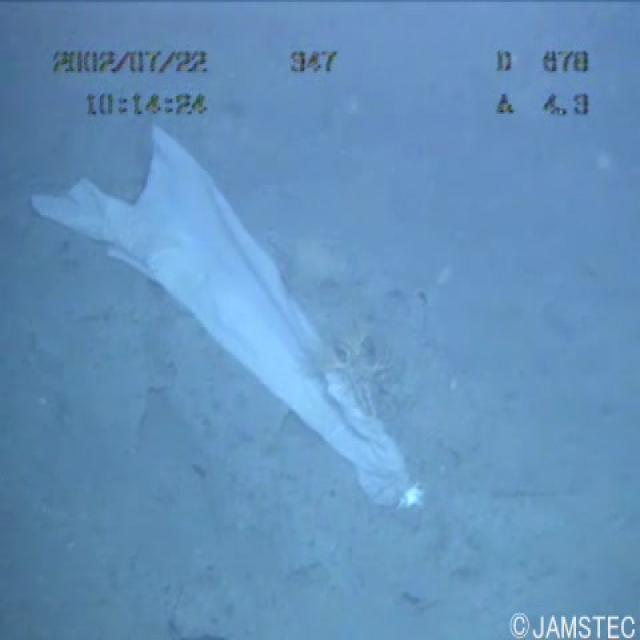plastic: (16, 103, 439, 526)
